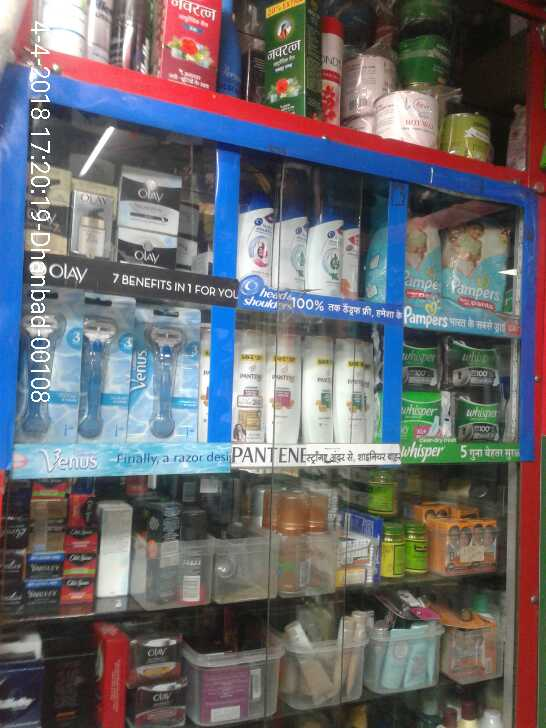venus: (129, 303, 202, 443), (16, 293, 83, 443), (83, 293, 129, 443)
